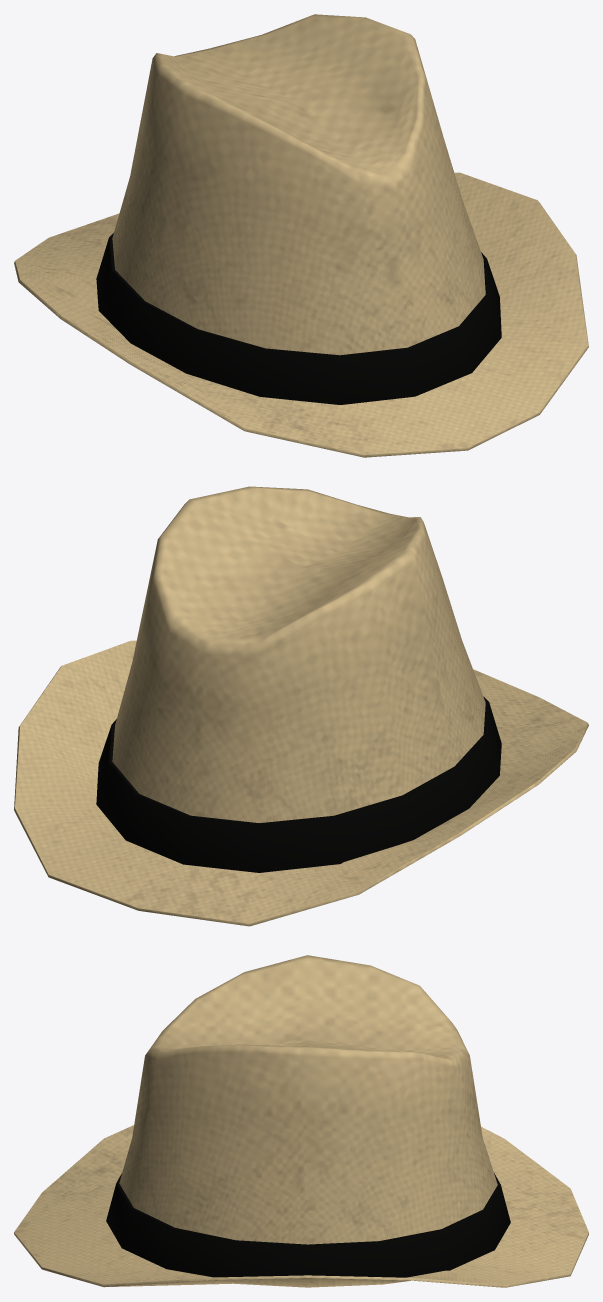
The model's file is croc_hat.glb.
The picture shows the model from 3 angles, top to bottom: view 1: azimuth 30°, elevation 25°; view 2: azimuth 150°, elevation 25°; view 3: azimuth 270°, elevation 25°; orthographic projection. The views are drawn at different scales.
Visible parts, largest first — view 1: CrocHat; view 2: CrocHat; view 3: CrocHat.
Part boxes in pixels (x1,y1,x2,y2): CrocHat: [14, 14, 588, 457]; CrocHat: [14, 486, 588, 926]; CrocHat: [14, 955, 588, 1287].
Size of the model in its own units: 0.4511 by 0.2397 by 0.5376.
Materials: 1 (1 with a texture image).
